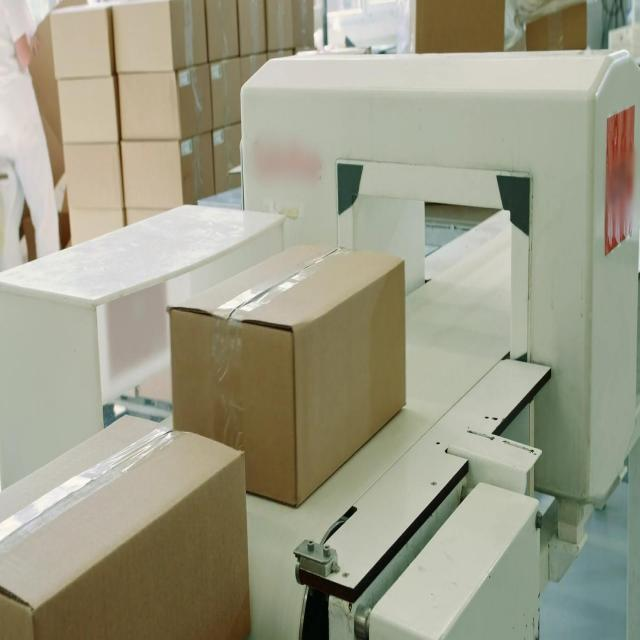box: (168, 244, 407, 507), (0, 413, 252, 640)
